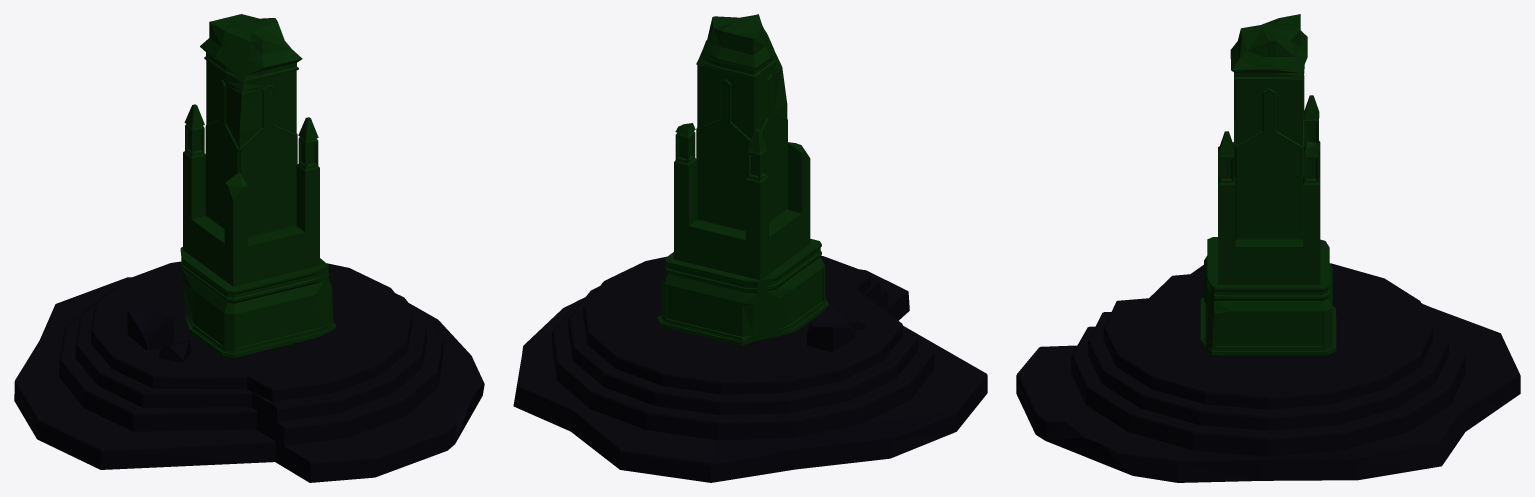
The model's file is Statue_écroulée.fbx.
The picture shows the model from 3 angles, left to right: view 1: azimuth 30°, elevation 25°; view 2: azimuth 150°, elevation 25°; view 3: azimuth 270°, elevation 25°; orthographic projection. The views are drawn at different scales.
Visible parts, largest first — view 1: Statue; view 2: Statue; view 3: Statue.
Boxes of the visible parts, x1,y1,x2,y2 form: Statue: (14,14,484,482); Statue: (513,14,987,482); Statue: (1016,14,1520,482).
Bounding box in the file's own units: 265 × 228 × 284.
